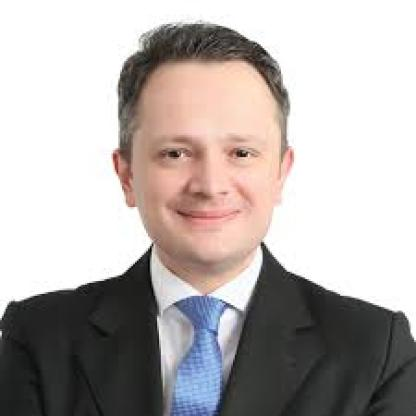person: (107, 21, 298, 268)
